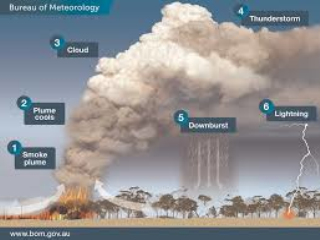fire: (61, 189, 97, 208)
smoke: (45, 13, 298, 187)
